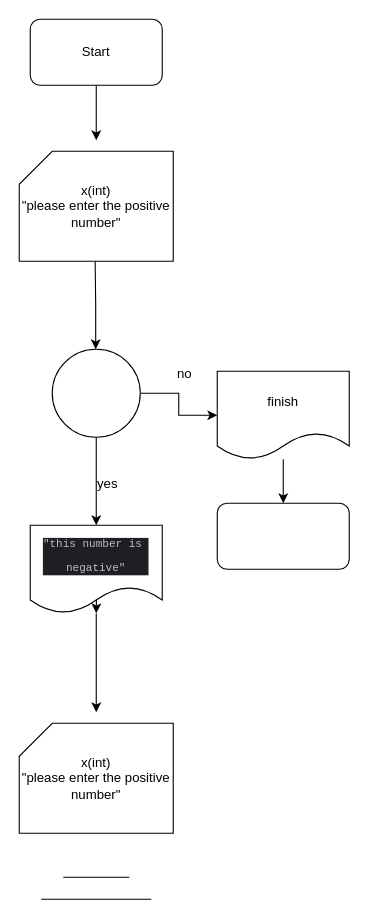
Some shapes in this 369 by 920 pixel diagram are drawn without their labels. Here are the shapes that lost their labels. From the top down, the centre of each, then its label:
At point (95, 392): "while x<=0".
At point (282, 535): "end".
